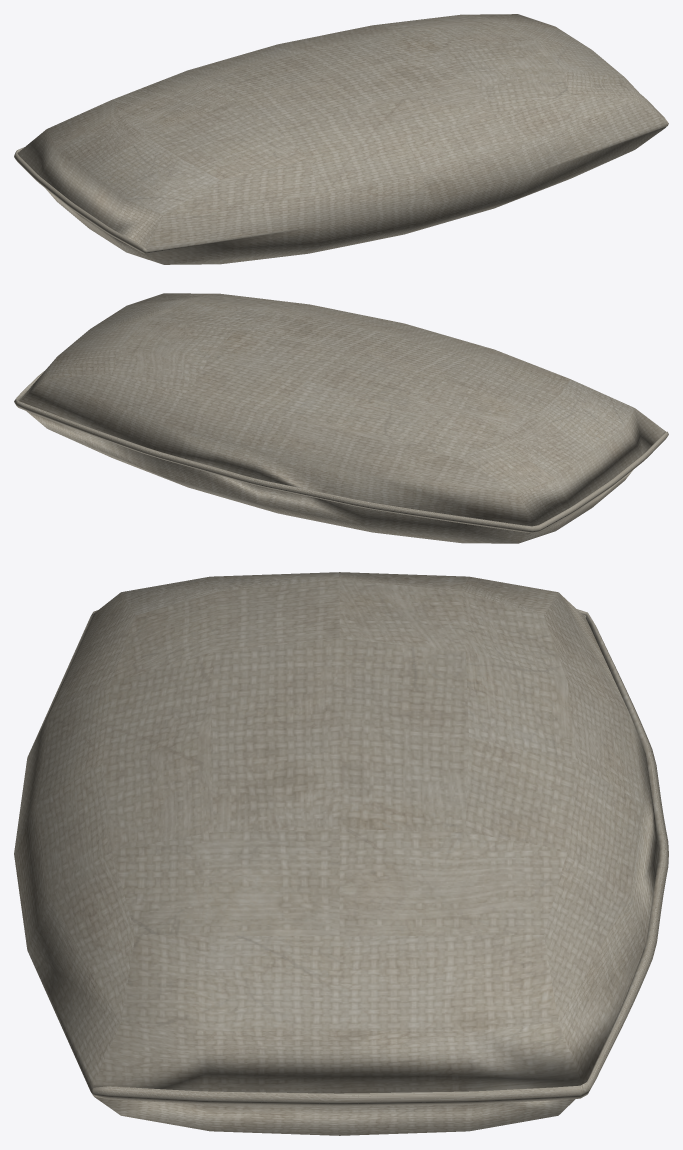
The model's file is SandBag.fbx.
The picture shows the model from 3 angles, top to bottom: view 1: azimuth 30°, elevation 25°; view 2: azimuth 150°, elevation 25°; view 3: azimuth 270°, elevation 25°; orthographic projection. The views are drawn at different scales.
Parts seen in each view (by area): view 1: SandBag; view 2: SandBag; view 3: SandBag.
Part boxes in pixels (<box>): SandBag: <box>14,14,668,264</box>; SandBag: <box>14,293,668,543</box>; SandBag: <box>14,572,668,1135</box>.
Size of the model in its own units: 68.96 by 16.3 by 38.52.
